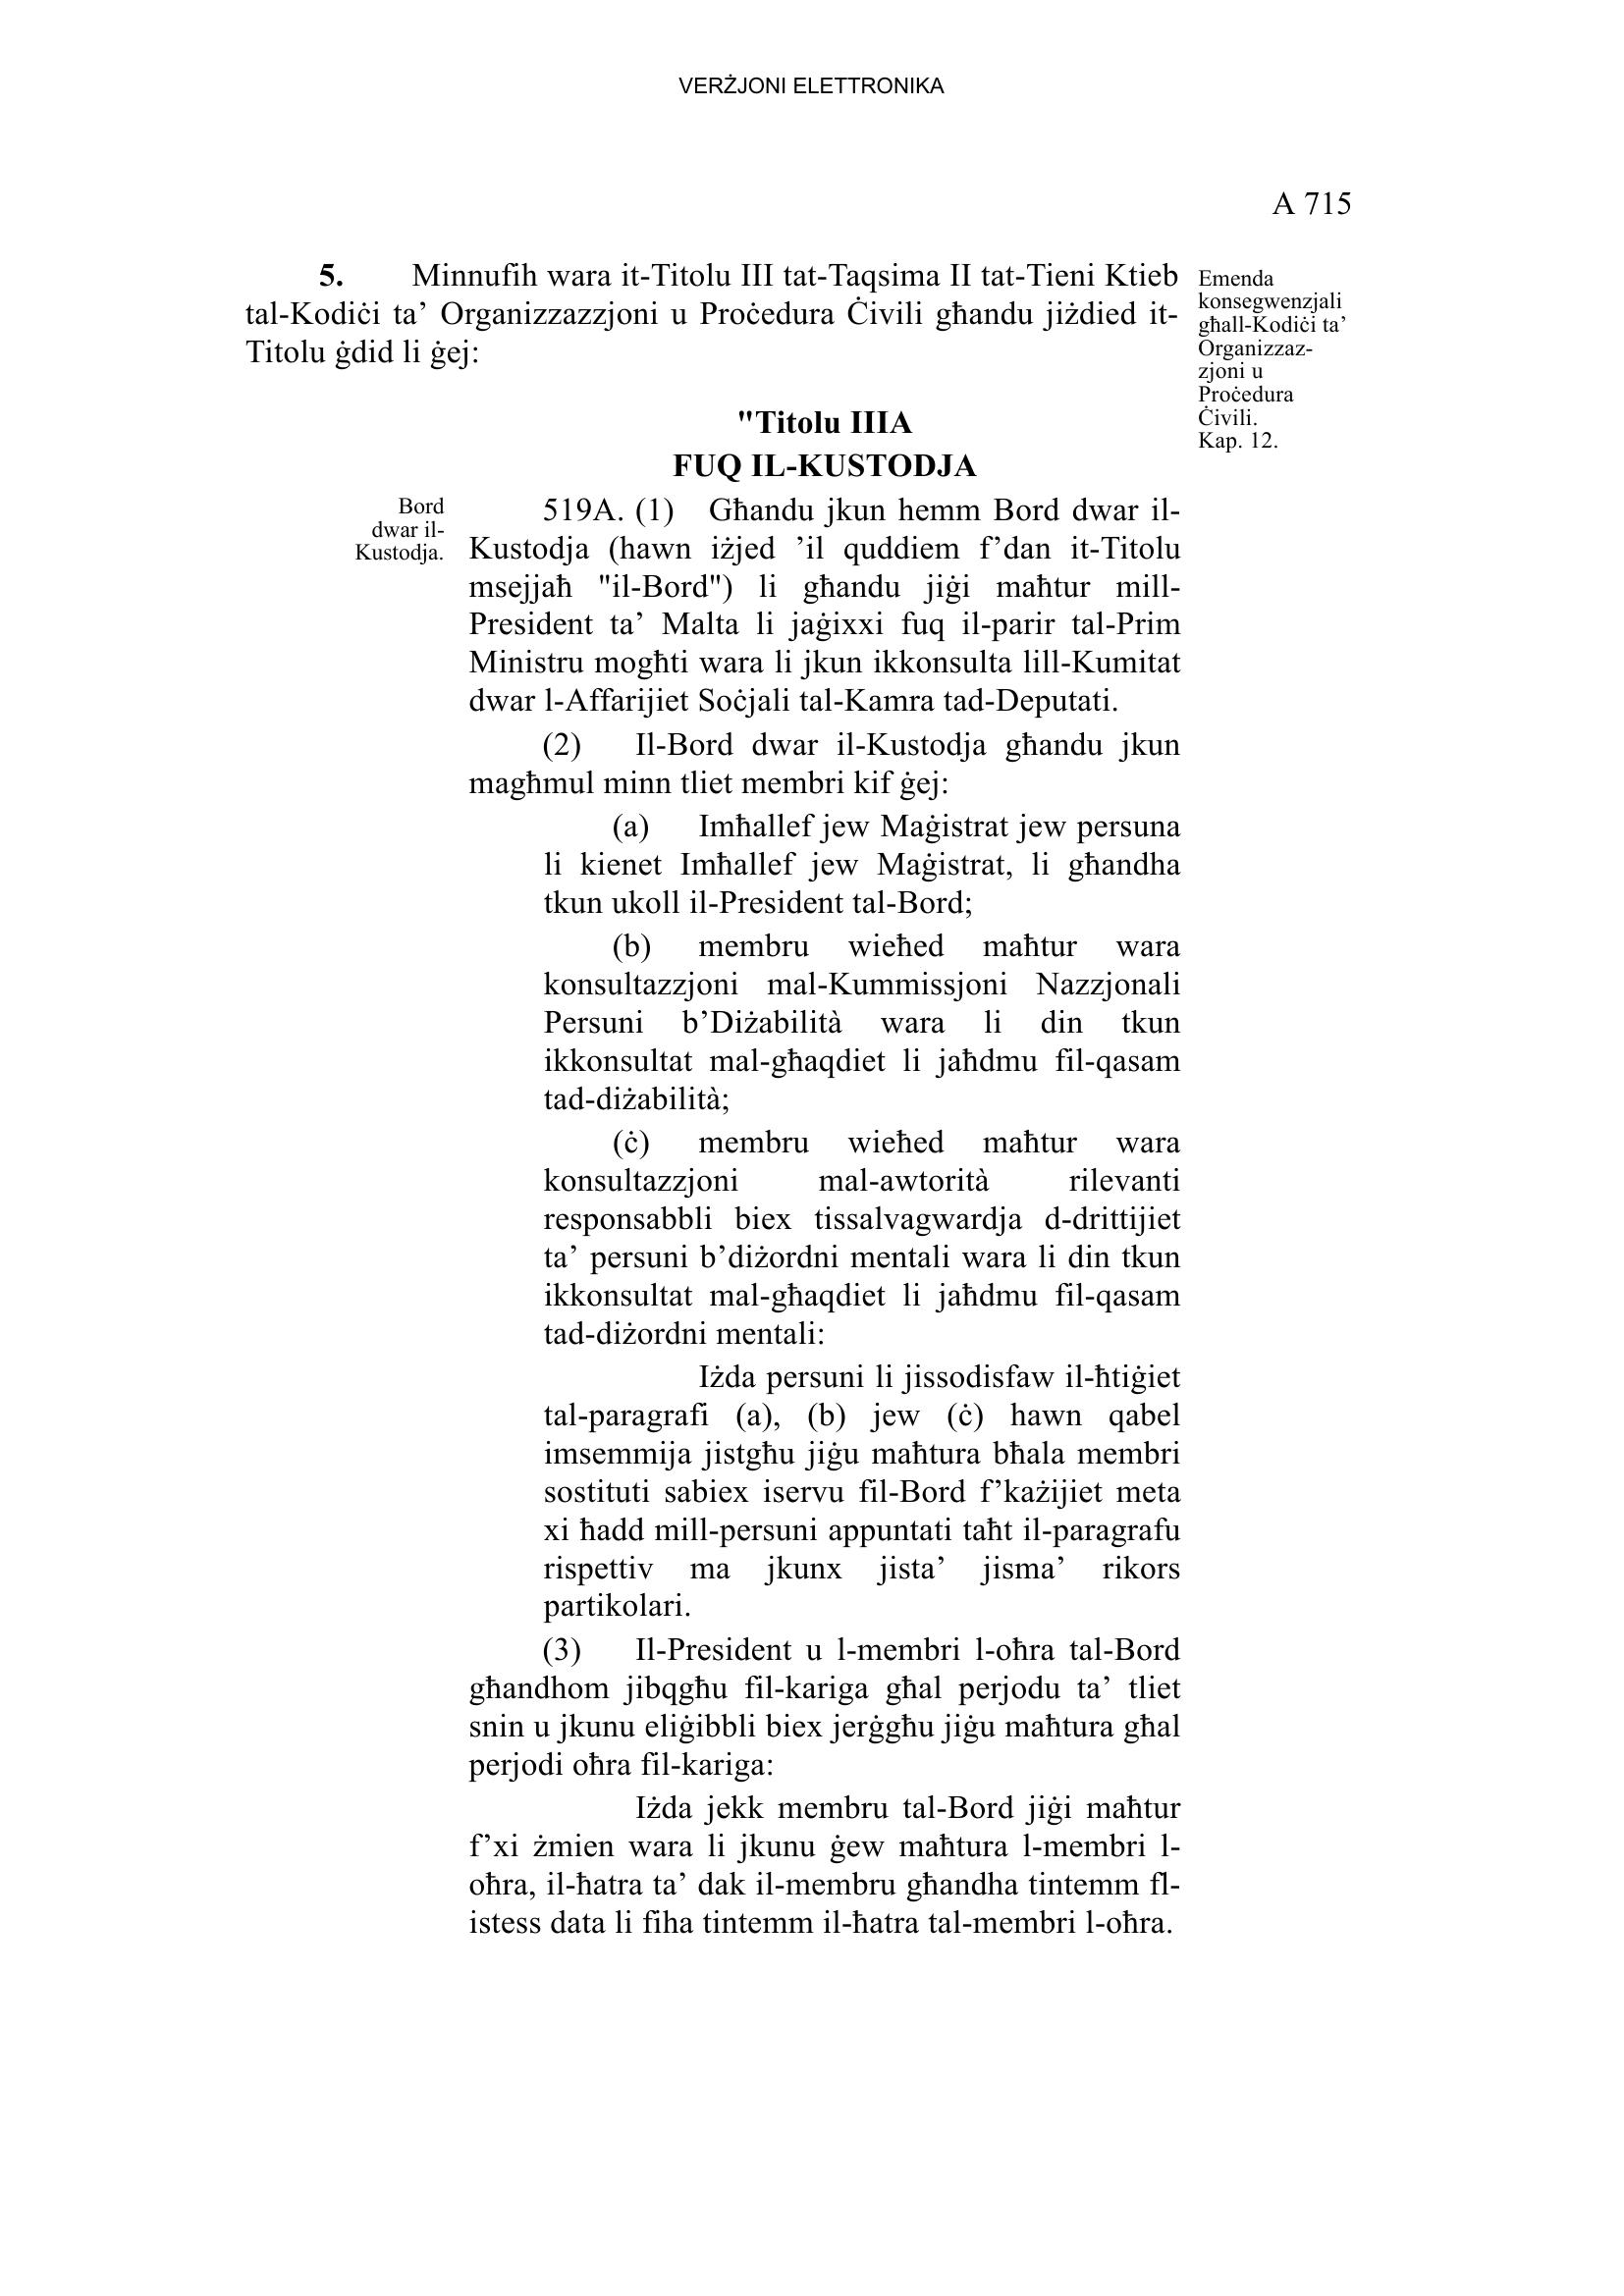text: (216, 246, 1192, 1948)
whiteout: (301, 473, 453, 571)
